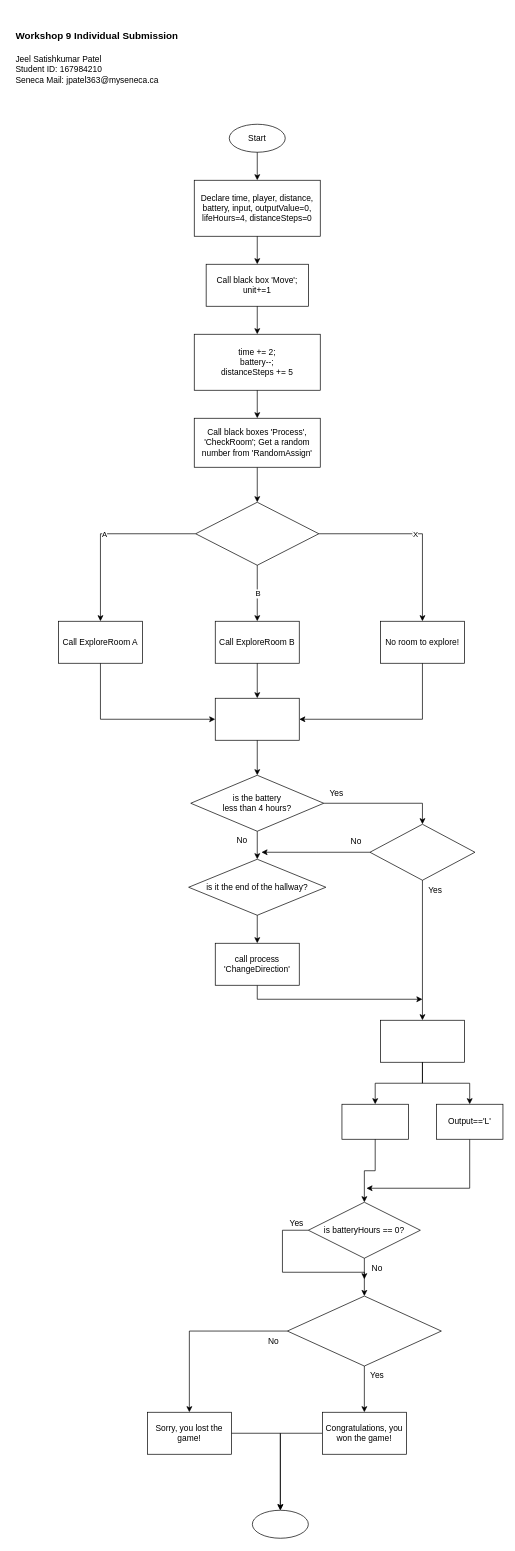
The diagram is 515 pixels wide and 1551 high, and some of its shapes have lost their labels. Here are the shapes that lost their labels. From the top down, the centre of each, then its label:
At (257,533): "What value is returned?".
At (257,719): "Check time consumed while exploring the room".
At (422,852): "Do you want to turnAround?".
At (422,1041): "Enter your input".
At (374,1121): "Output=='R'".
At (364,1330): "Have you reached back to your starting point?".
At (280,1524): "End".
